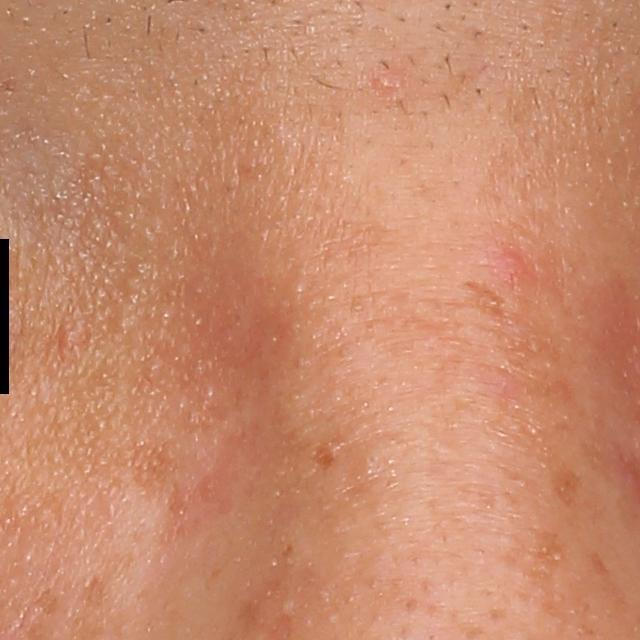melasma: (128, 442, 185, 499), (555, 452, 582, 510), (307, 445, 337, 473)
papule: (486, 243, 539, 293)
